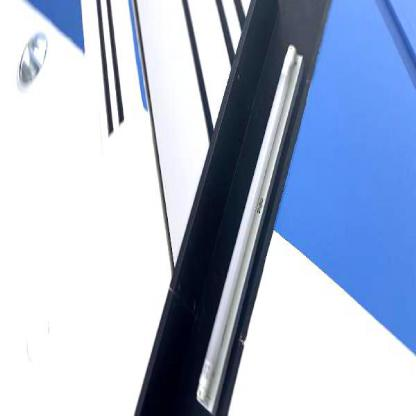light_off: (188, 37, 313, 415)
